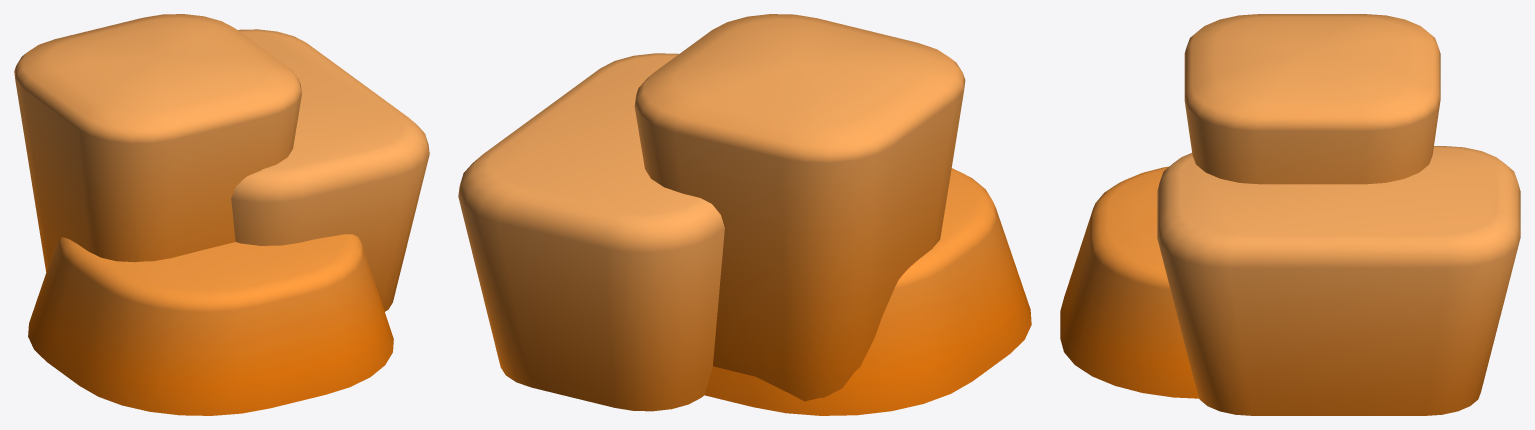
File: Rock_A_04.glb
The picture shows the model from 3 angles, left to right: view 1: azimuth 30°, elevation 25°; view 2: azimuth 150°, elevation 25°; view 3: azimuth 270°, elevation 25°; orthographic projection. The views are drawn at different scales.
Visible parts, largest first — view 1: Rock_A_04; view 2: Rock_A_04; view 3: Rock_A_04.
Part boxes in pixels (x1,y1,x2,y2): Rock_A_04: (14,14,429,415); Rock_A_04: (458,14,1031,415); Rock_A_04: (1060,14,1520,415).
Size of the model in its own units: 1.75 by 1.23 by 1.92.
Materials: 1 (1 with a texture image).
